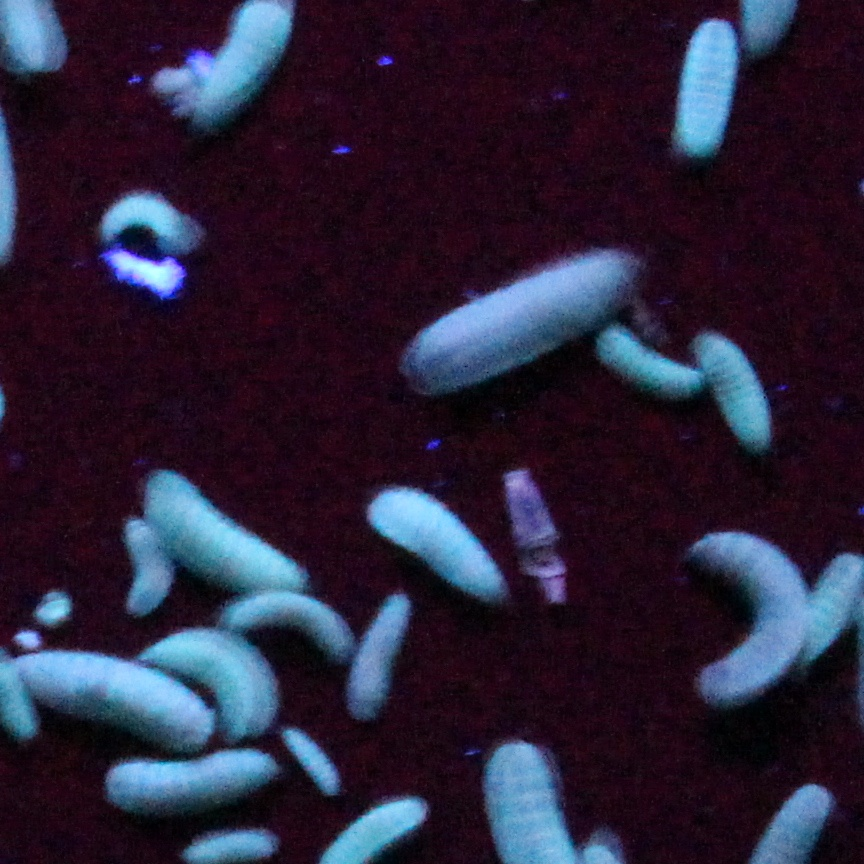larve: (408, 250, 639, 372), (156, 457, 305, 585), (698, 530, 805, 708), (368, 472, 517, 595), (31, 641, 205, 744), (153, 621, 287, 726), (105, 751, 287, 808), (351, 590, 435, 705), (598, 312, 701, 400), (695, 328, 770, 447), (225, 574, 346, 647), (101, 176, 198, 257), (682, 19, 732, 160), (274, 719, 337, 797), (122, 513, 165, 606)
